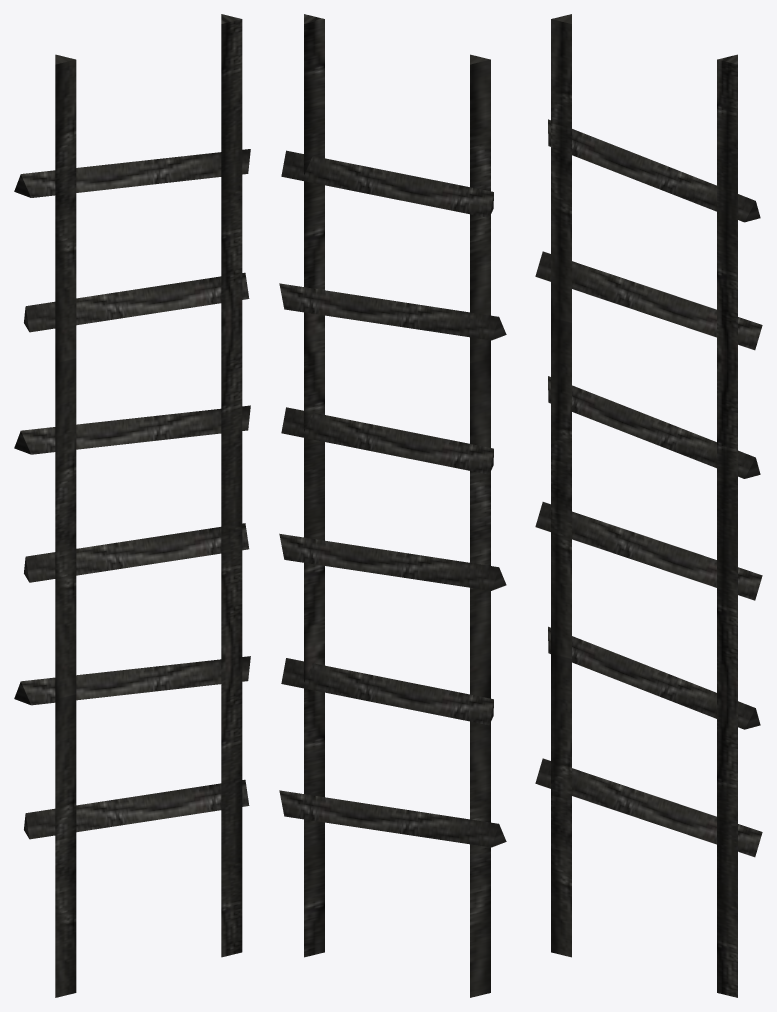
3 renders of one model, left to right at view 1: azimuth 30°, elevation 25°; view 2: azimuth 150°, elevation 25°; view 3: azimuth 330°, elevation 25°, orthographic.
Visible parts, largest first — view 1: xs_wj26; view 2: xs_wj26; view 3: xs_wj26.
Part boxes in pixels (x1,y1,x2,y2): xs_wj26: (14, 14, 250, 997); xs_wj26: (279, 14, 506, 997); xs_wj26: (535, 14, 762, 997).
Size of the model in its own units: 229 by 923 by 38.45.
Materials: 1 (1 with a texture image).
